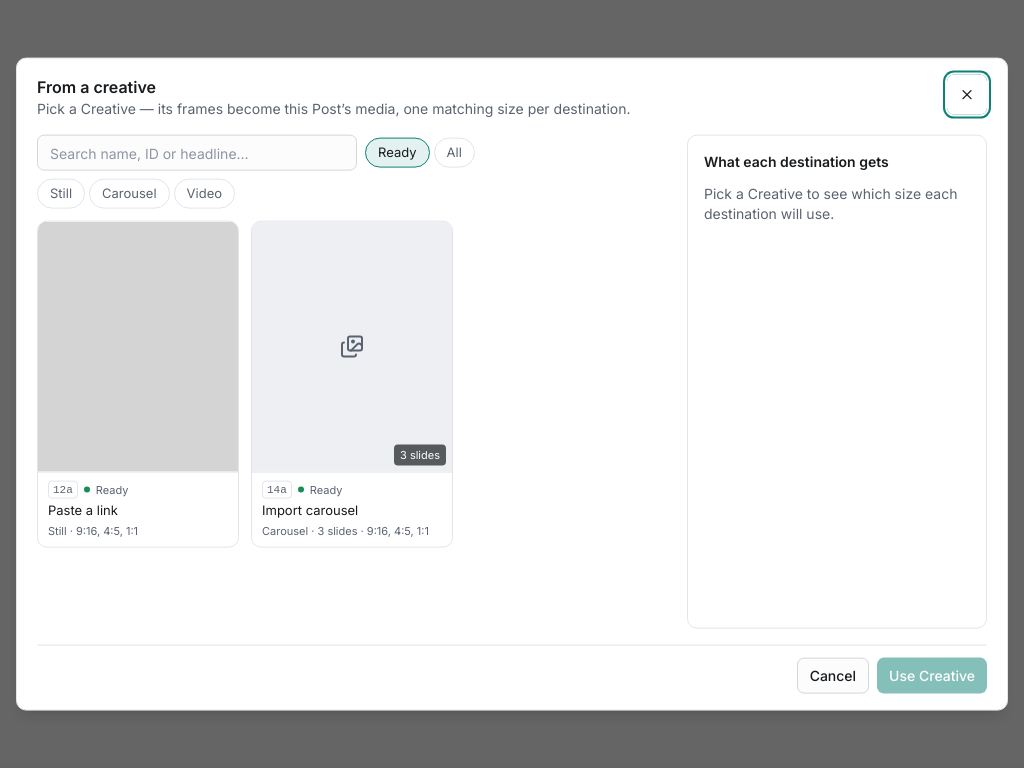
it: AttachCreativeDialog › previews the size the Post’s real destinations will get, and has no caption option
Click the button with aria-label "Choose Creative 12a". click: (138, 384)
box: [37, 220, 239, 548]
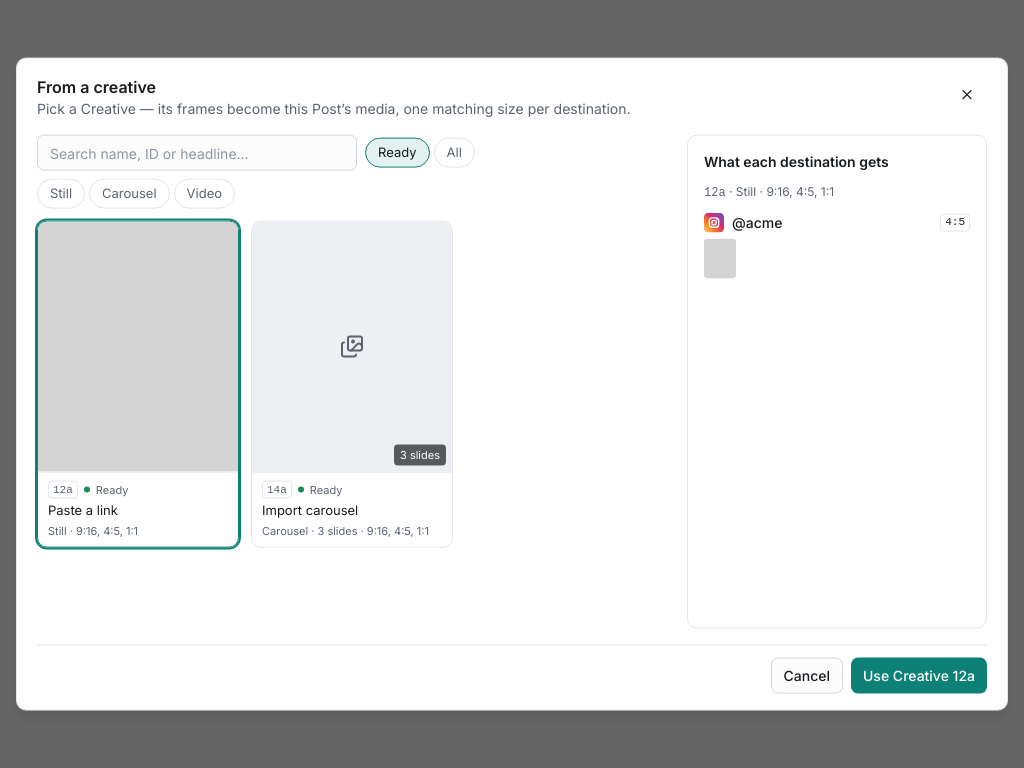
Check: the text "@acme" is shown, box [732, 213, 782, 233]
Check: the text "4:5" is shown, box [940, 214, 970, 231]
